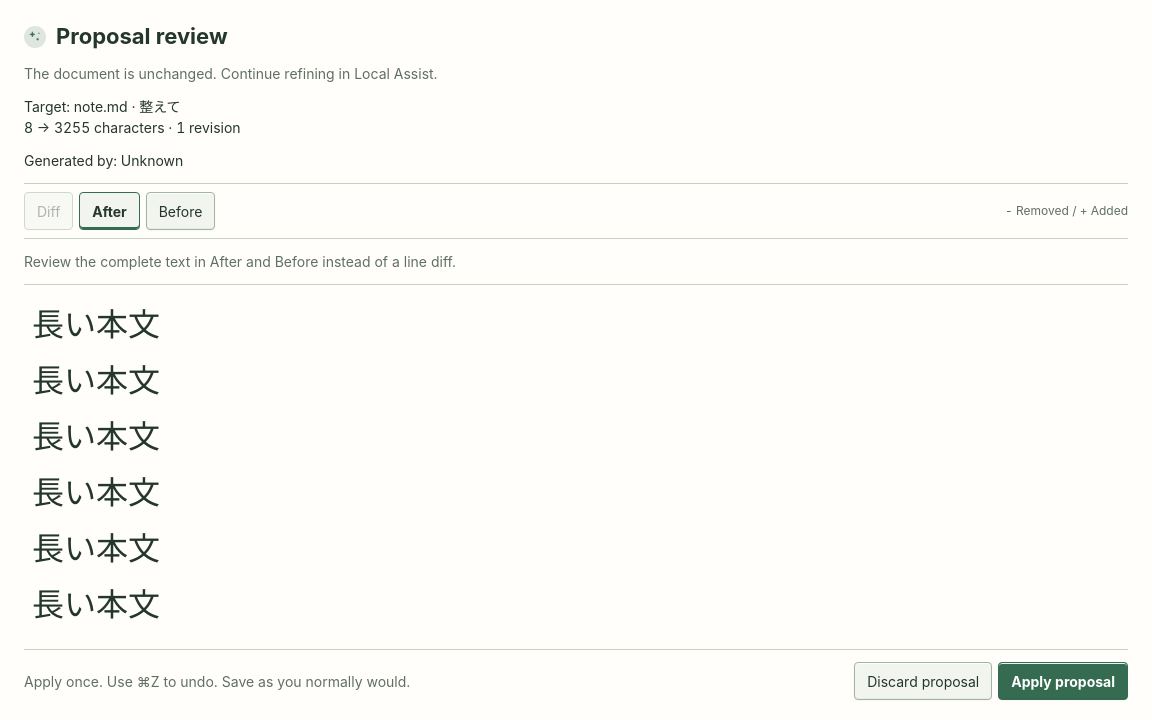
it: LocalAssistProposalReview › offers exact Before/After text even when a line diff exceeds its budget
Expected: the button "Diff" is disabled, [24, 192, 73, 230]
Click the button "Before" at x=181, y=211, box [146, 192, 215, 230]
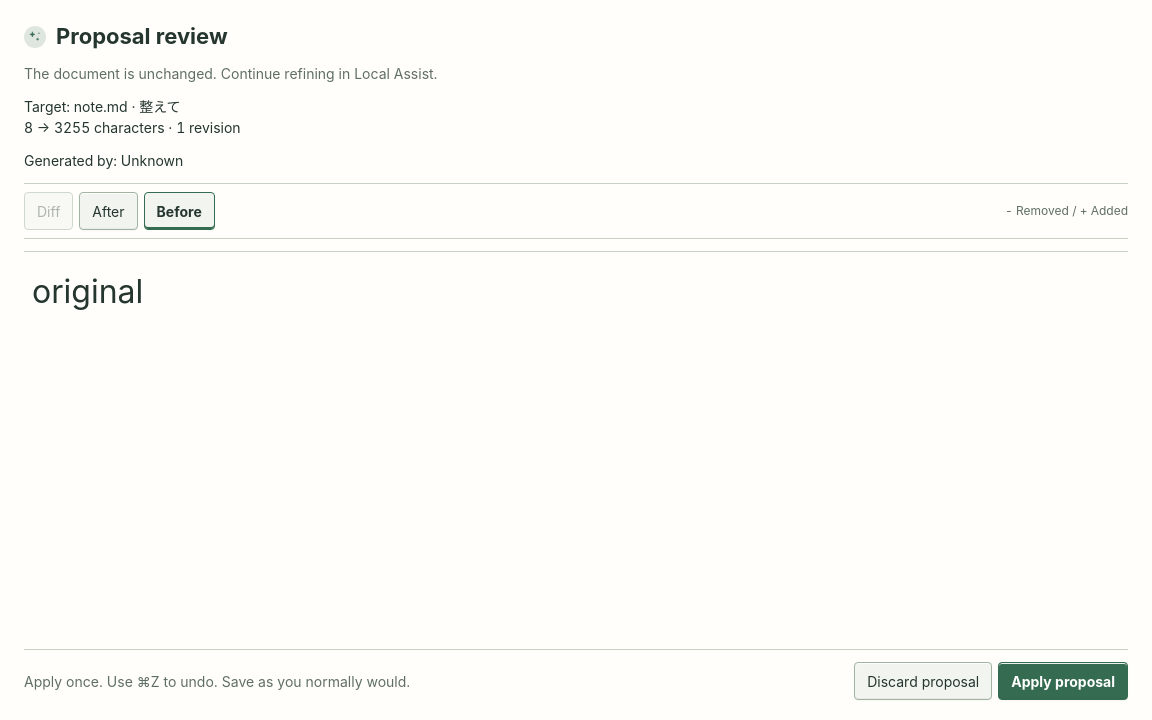
Now the text named "Before" reads "original", box [32, 272, 143, 311]
